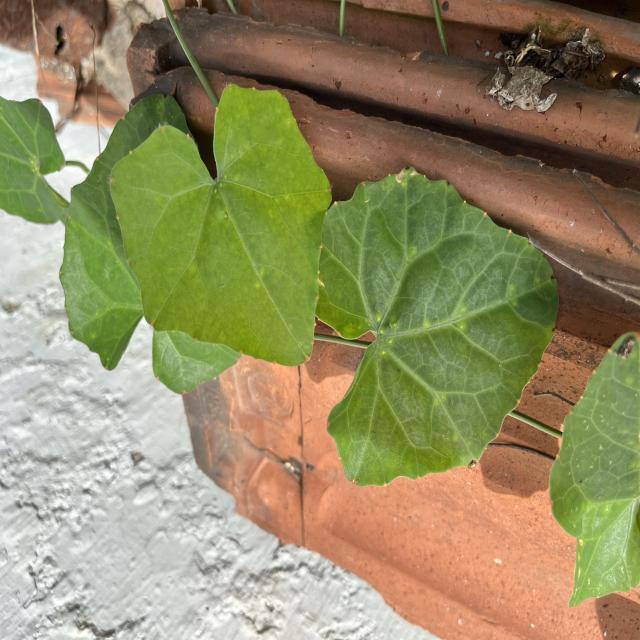Coccinia grandis: (314, 164, 562, 489), (109, 80, 334, 370)
